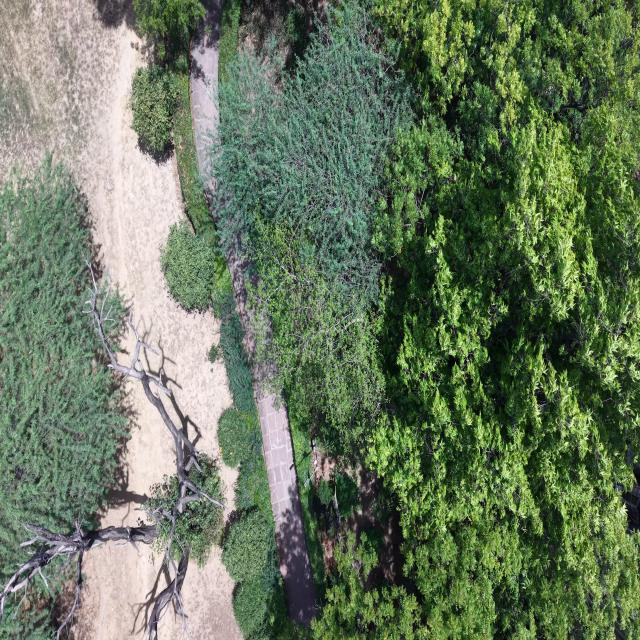DRY_AREA: (0, 0, 231, 457), (253, 366, 317, 625)
PATHWAYS: (253, 367, 316, 624)
VEGETATION_TREE: (213, 0, 639, 639), (213, 0, 639, 638), (369, 2, 639, 637), (369, 108, 639, 637), (217, 11, 409, 601), (216, 15, 408, 597), (0, 156, 222, 639), (0, 159, 222, 597), (137, 0, 288, 638), (213, 6, 409, 447), (0, 261, 223, 639), (6, 256, 221, 634), (216, 10, 407, 300), (0, 157, 126, 585), (0, 160, 125, 577), (375, 0, 638, 129), (130, 0, 230, 310), (209, 278, 290, 639), (209, 279, 290, 639), (212, 269, 290, 639), (130, 38, 230, 311), (214, 291, 290, 639), (130, 0, 218, 248), (161, 54, 231, 311), (130, 50, 219, 250), (169, 53, 231, 297), (213, 278, 272, 519), (290, 405, 360, 606), (168, 52, 227, 286), (311, 533, 424, 639), (222, 509, 289, 639), (170, 53, 214, 235), (288, 405, 326, 603), (229, 0, 323, 71), (214, 287, 256, 415), (160, 220, 217, 311), (134, 0, 205, 60), (129, 65, 177, 151), (222, 510, 273, 582), (171, 501, 223, 565), (236, 438, 272, 521), (233, 579, 280, 638), (218, 407, 259, 467), (316, 473, 359, 518), (219, 0, 241, 84), (283, 6, 307, 58), (334, 473, 359, 517), (371, 484, 394, 524), (361, 525, 385, 556), (317, 480, 334, 506), (208, 344, 220, 363)
